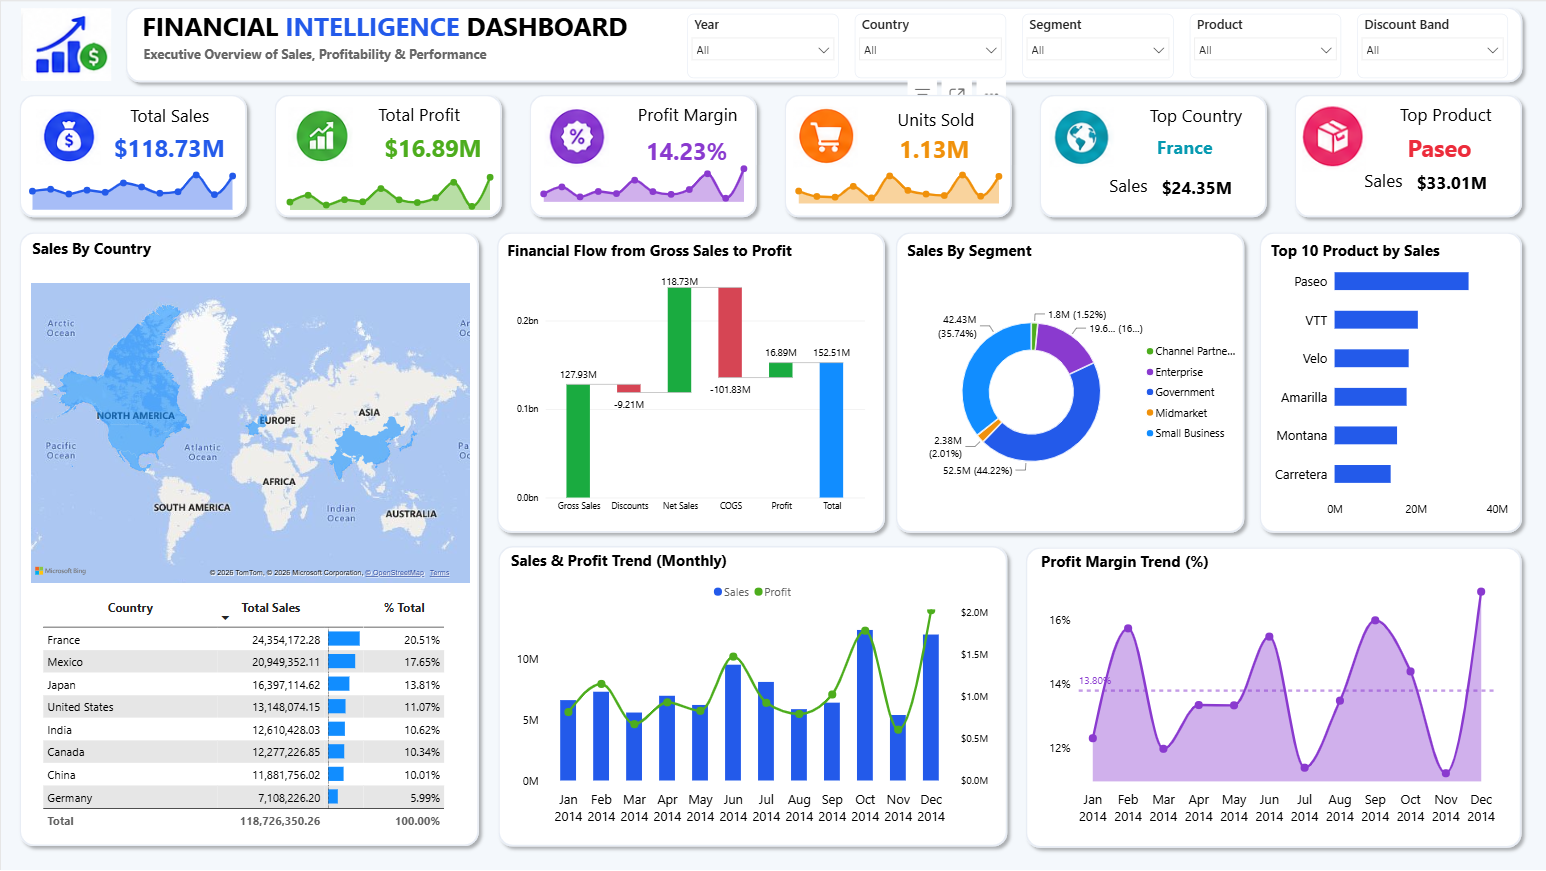

The dashboard page shown, as its layout file describes it:
{"tool":"powerbi","page":{"name":"Page 1","canvas":[1850,1200],"ordinal":0},"visuals":[{"type":"shape","box":[155,5,1692.5,120],"z":0},{"type":"image","box":[26,6,110,118],"z":1000},{"type":"textbox","box":[176,24,624,48],"z":2000},{"type":"textbox","box":[176.7,60,631.7,49],"z":3000},{"type":"slicer","fields":{"Values":["calendar.year"]},"box":[800,22,166,76],"z":4000},{"type":"slicer","fields":{"Values":["financials.Country"]},"box":[1006.5,22,166,76],"z":5000},{"type":"slicer","fields":{"Values":["financials.Segment"]},"box":[1213,22,166,76],"z":6000},{"type":"slicer","fields":{"Values":["financials.Product"]},"box":[1419.5,22,166,76],"z":7000},{"type":"slicer","fields":{"Values":["financials.Discount Band"]},"box":[1626,22,166,76],"z":8000},{"type":"shape","box":[0,125,325,205],"z":9000},{"type":"shape","box":[316,124,300,206],"z":10000},{"type":"shape","box":[616,124,300,206],"z":11000},{"type":"shape","box":[914,124,300,206],"z":12000},{"type":"shape","box":[1214,124,300,206],"z":13000},{"type":"shape","box":[1515,125,332.5,205],"z":14000},{"type":"textbox","box":[154,150,120,42],"z":15000},{"type":"textbox","box":[450,150,134,42],"z":16000},{"type":"textbox","box":[738,150,146,42],"z":17000},{"type":"textbox","box":[1064,152,120,42],"z":18000},{"type":"textbox","box":[1344,150,138,42],"z":19000},{"type":"textbox","box":[1646,150,138,42],"z":20000},{"type":"cardVisual","fields":{"Data":["Measure.Total Sales"]},"box":[124,172,192,72],"z":21000},{"type":"image","box":[45,150,90,67.5],"z":22000},{"type":"image","box":[338,152,80,68],"z":23000},{"type":"image","box":[642,150,80,68],"z":24000},{"type":"image","box":[944,146,80,68],"z":25000},{"type":"image","box":[1242,150,80,68],"z":26000},{"type":"image","box":[1546,152,80,68],"z":27000},{"type":"cardVisual","fields":{"Data":["Measure.Total profit"]},"box":[428,174,180,72],"z":28000},{"type":"cardVisual","fields":{"Data":["Measure.Profit margin"]},"box":[734,172,180,72],"z":29000},{"type":"cardVisual","fields":{"Data":["Measure.Units sold"]},"box":[1064,174,190,72],"z":30000},{"type":"cardVisual","fields":{"Data":["Measure.Top country"]},"box":[1322,178,160,72],"z":31000},{"type":"cardVisual","fields":{"Data":["Measure.Top Product"]},"box":[1626,178,180,72],"z":32000},{"type":"areaChart","fields":{"Category":["calendar.Date"],"Y":["Measure.Total Sales"]},"box":[44,228,262,68],"z":33000},{"type":"areaChart","fields":{"Category":["calendar.Date"],"Y":["Measure.Total profit"]},"box":[334,228,262,64],"z":34000},{"type":"areaChart","fields":{"Category":["calendar.Date"],"Y":["Measure.Profit margin"]},"box":[636,226,262,68],"z":35000},{"type":"areaChart","fields":{"Category":["calendar.Date"],"Y":["Measure.Units sold"]},"box":[932,224,262,68],"z":36000},{"type":"cardVisual","fields":{"Data":["Measure.Total Sales"]},"box":[1354,224,192,72],"z":37000},{"type":"textbox","box":[1586,246,138,42],"z":38000},{"type":"cardVisual","fields":{"Data":["Measure.Total Sales"]},"box":[1646,228,192,72],"z":39000},{"type":"textbox","box":[1296,242,138,42],"z":40000},{"type":"shape","box":[0,327.5,587.5,872.5],"z":41000},{"type":"shape","box":[585,327.5,457.5,435],"z":42000},{"type":"shape","box":[1025,327.5,465,435],"z":43000},{"type":"shape","box":[1480,327.5,367.5,435],"z":44000},{"type":"shape","box":[565,762.5,672.5,437.5],"z":45000},{"type":"textbox","box":[55,352.5,312.5,50],"z":47000},{"type":"tableEx","fields":{"Values":["financials.Country","Measure.Total Sales","Sum(financials. Sales)","Divide(Measure.Total Sales, ScopedEval(Measure.Total Sales, []))"]},"box":[25,762.5,540,395],"z":48000},{"type":"esriVisual","fields":{"Location":["financials.Country"]},"box":[25,402.5,540,327.5],"z":49000},{"type":"donutChart","fields":{"Category":["financials.Segment"],"Y":["Measure.Total Sales"]},"box":[1042.5,402.5,437.5,347.5],"z":50000},{"type":"textbox","box":[1052.5,352.5,312.5,50],"z":51000},{"type":"barChart","fields":{"Category":["financials.Product"],"Y":["Measure.Total Sales"]},"box":[1495,412.5,302.5,317.5],"z":52000},{"type":"textbox","box":[1505,352.5,312.5,50],"z":52001},{"type":"lineStackedColumnComboChart","fields":{"Category":["calendar.month year"],"Y":["Measure.Total Sales"],"Y2":["Measure.Total profit"]},"box":[580,857.5,635,325],"z":52002},{"type":"textbox","box":[635,787.5,330,50],"z":52003},{"type":"shape","box":[1215,762.5,635,437.5],"z":52004},{"type":"areaChart","fields":{"Category":["calendar.month year"],"Y":["Measure.Profit margin"]},"box":[1212.5,857.5,635,325],"z":52005},{"type":"textbox","box":[1262.5,787.5,330,50],"z":52006},{"type":"waterfallChart","fields":{"Category":["Financial Flow.Stage"],"Y":["Financial Flow.Financial Flow Value"]},"box":[607.5,377.5,417.5,385],"z":52007},{"type":"textbox","box":[615,352.5,410,50],"z":52008}]}

Visuals, with their boxes on the page's 1850x1200 design canvas (x1, y1, x2, y2). These are canvas units, not pixel positions in the 1546x871 screenshot, which may show the page scaled, cropped or inside an application window:
shape: (155, 5, 1848, 125)
image: (26, 6, 136, 124)
textbox: (176, 24, 800, 72)
textbox: (177, 60, 808, 109)
slicer - calendar.year: (800, 22, 966, 98)
slicer - financials.Country: (1006, 22, 1172, 98)
slicer - financials.Segment: (1213, 22, 1379, 98)
slicer - financials.Product: (1420, 22, 1586, 98)
slicer - financials.Discount Band: (1626, 22, 1792, 98)
shape: (0, 125, 325, 330)
shape: (316, 124, 616, 330)
shape: (616, 124, 916, 330)
shape: (914, 124, 1214, 330)
shape: (1214, 124, 1514, 330)
shape: (1515, 125, 1848, 330)
textbox: (154, 150, 274, 192)
textbox: (450, 150, 584, 192)
textbox: (738, 150, 884, 192)
textbox: (1064, 152, 1184, 194)
textbox: (1344, 150, 1482, 192)
textbox: (1646, 150, 1784, 192)
cardVisual - Measure.Total Sales: (124, 172, 316, 244)
image: (45, 150, 135, 218)
image: (338, 152, 418, 220)
image: (642, 150, 722, 218)
image: (944, 146, 1024, 214)
image: (1242, 150, 1322, 218)
image: (1546, 152, 1626, 220)
cardVisual - Measure.Total profit: (428, 174, 608, 246)
cardVisual - Measure.Profit margin: (734, 172, 914, 244)
cardVisual - Measure.Units sold: (1064, 174, 1254, 246)
cardVisual - Measure.Top country: (1322, 178, 1482, 250)
cardVisual - Measure.Top Product: (1626, 178, 1806, 250)
areaChart - calendar.Date x Measure.Total Sales: (44, 228, 306, 296)
areaChart - calendar.Date x Measure.Total profit: (334, 228, 596, 292)
areaChart - calendar.Date x Measure.Profit margin: (636, 226, 898, 294)
areaChart - calendar.Date x Measure.Units sold: (932, 224, 1194, 292)
cardVisual - Measure.Total Sales: (1354, 224, 1546, 296)
textbox: (1586, 246, 1724, 288)
cardVisual - Measure.Total Sales: (1646, 228, 1838, 300)
textbox: (1296, 242, 1434, 284)
shape: (0, 328, 588, 1200)
shape: (585, 328, 1042, 762)
shape: (1025, 328, 1490, 762)
shape: (1480, 328, 1848, 762)
shape: (565, 762, 1238, 1200)
textbox: (55, 352, 368, 402)
tableEx - financials.Country x Measure.Total Sales: (25, 762, 565, 1158)
esriVisual - financials.Country: (25, 402, 565, 730)
donutChart - financials.Segment x Measure.Total Sales: (1042, 402, 1480, 750)
textbox: (1052, 352, 1365, 402)
barChart - financials.Product x Measure.Total Sales: (1495, 412, 1798, 730)
textbox: (1505, 352, 1818, 402)
lineStackedColumnComboChart - calendar.month year x Measure.Total Sales: (580, 858, 1215, 1182)
textbox: (635, 788, 965, 838)
shape: (1215, 762, 1850, 1200)
areaChart - calendar.month year x Measure.Profit margin: (1212, 858, 1848, 1182)
textbox: (1262, 788, 1592, 838)
waterfallChart - Financial Flow.Stage x Financial Flow.Financial Flow Value: (608, 378, 1025, 762)
textbox: (615, 352, 1025, 402)
